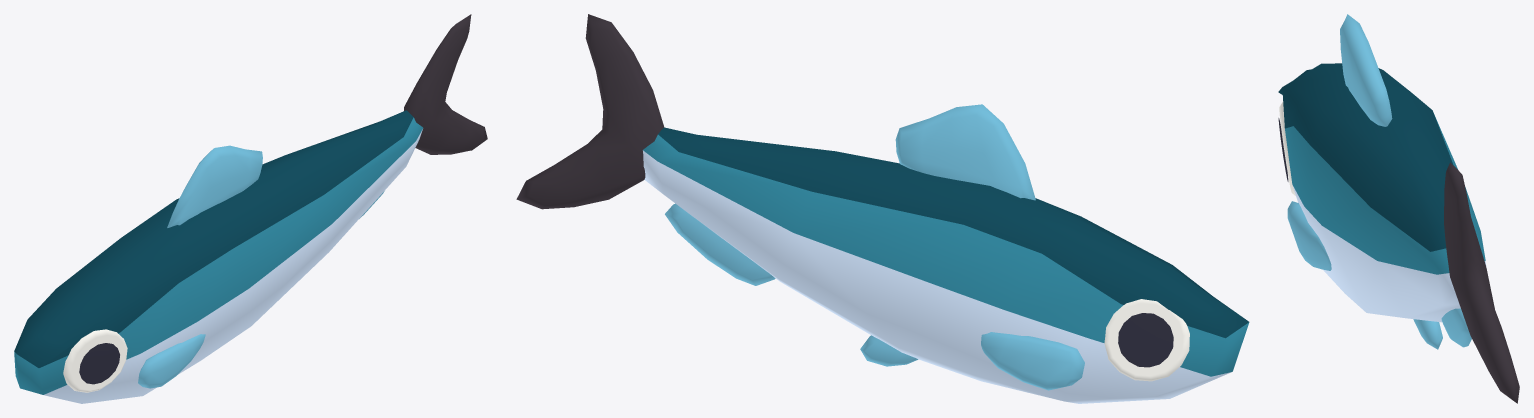
Rendered from fish.glb.
3 renders of one model, left to right at view 1: azimuth 30°, elevation 25°; view 2: azimuth 150°, elevation 25°; view 3: azimuth 270°, elevation 25°, orthographic. The views are drawn at different scales.
Parts seen in each view (by area): view 1: 42; view 2: 42; view 3: 42.
Part boxes in pixels (x1=…): 42: x1=14, y1=14, x2=487, y2=403; 42: x1=516, y1=14, x2=1249, y2=403; 42: x1=1278, y1=14, x2=1519, y2=403.
Bounding box in the file's own units: 2.74 × 1.23 × 0.755.
Materials: 1 (1 with a texture image).
